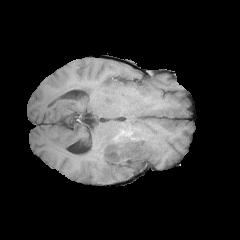glioma: (90, 125, 167, 183)
